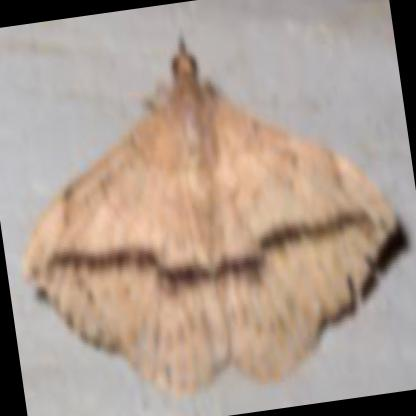Leaf Webber: (28, 43, 403, 407)
